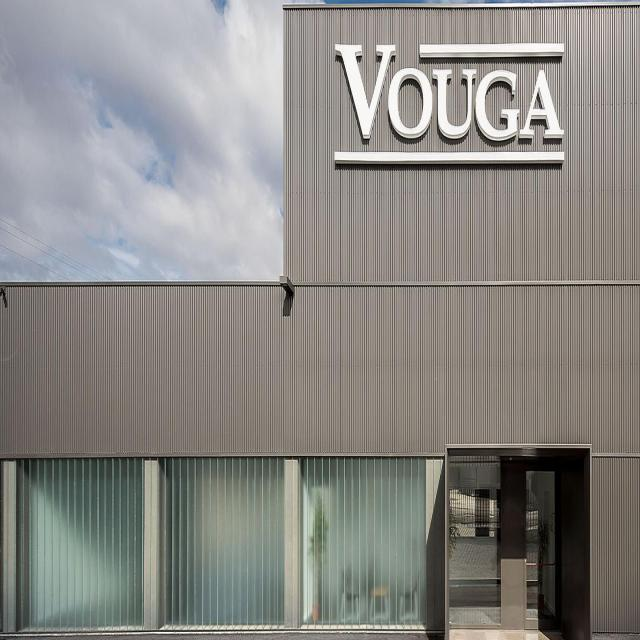door: (523, 465, 558, 630)
window: (299, 453, 427, 637), (157, 452, 287, 632), (19, 457, 145, 633), (448, 454, 502, 631)
